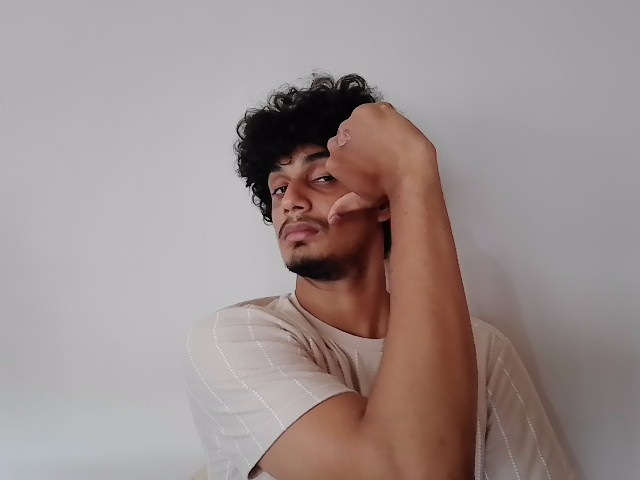drink: (264, 103, 434, 269)
